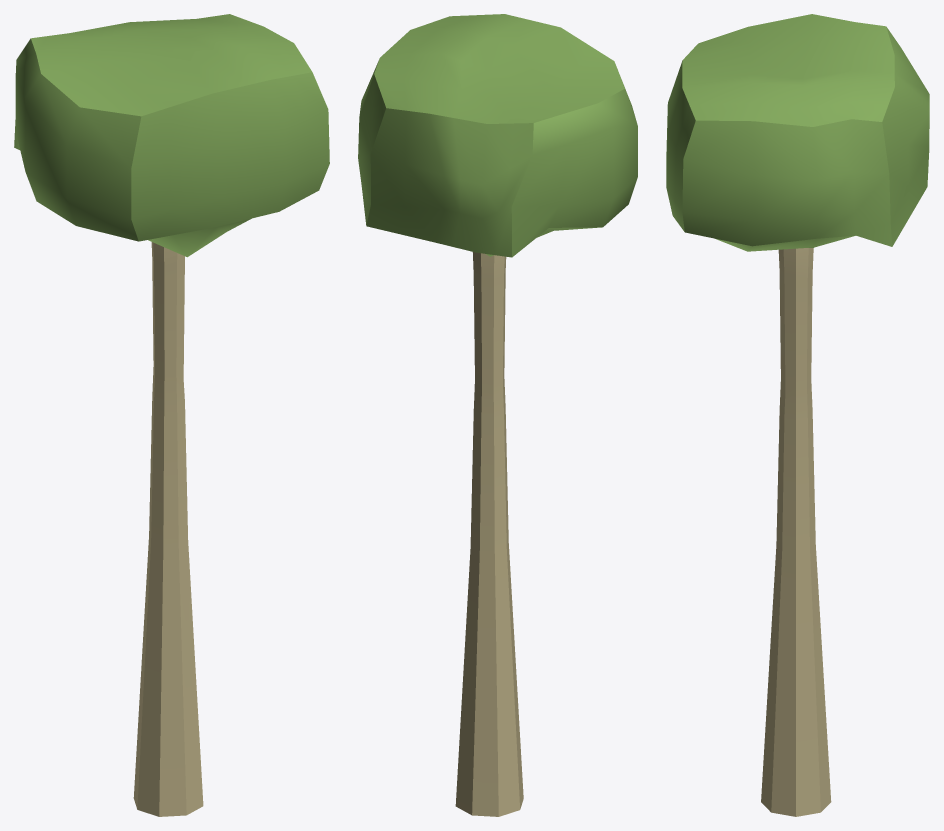
Rendered from tree_one_top (4).fbx.
3 views of the same model, side by side, from view 1: azimuth 30°, elevation 25°; view 2: azimuth 150°, elevation 25°; view 3: azimuth 270°, elevation 25° (orthographic). The views are drawn at different scales.
Visible parts, largest first — view 1: pasted__pCube1, pCylinder1; view 2: pasted__pCube1, pCylinder1; view 3: pasted__pCube1, pCylinder1.
Part boxes in pixels (x1,y1,x2,y2): pasted__pCube1: (14,14,329,257); pCylinder1: (133,242,203,816); pasted__pCube1: (358,14,637,257); pCylinder1: (455,252,523,816); pasted__pCube1: (666,14,929,251); pCylinder1: (761,248,831,816).
Bounding box in the file's own units: 14.75 × 41.5 × 13.35.
